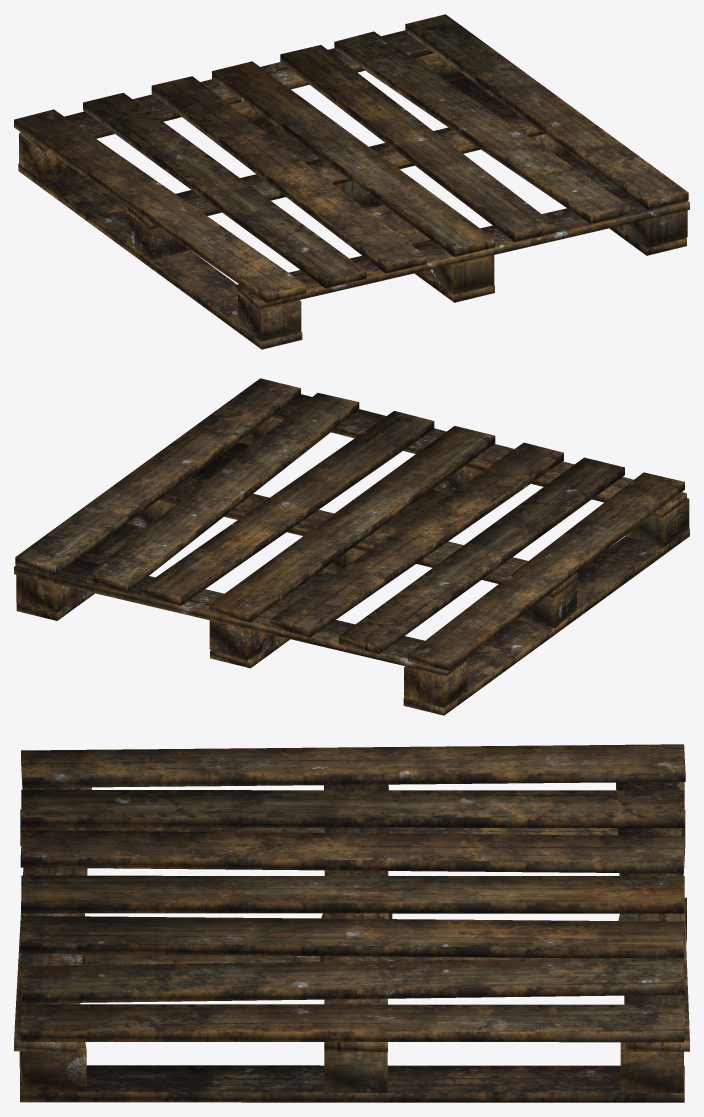
File: Pallet2.fbx
3 views of the same model, one above another, from view 1: azimuth 30°, elevation 25°; view 2: azimuth 150°, elevation 25°; view 3: azimuth 270°, elevation 25° (orthographic). The views are drawn at different scales.
Visible parts, largest first — view 1: Pallet; view 2: Pallet; view 3: Pallet.
Boxes of the visible parts, left/top/right/bottom form: Pallet: left=14, top=14, right=689, bottom=349; Pallet: left=14, top=378, right=689, bottom=715; Pallet: left=14, top=744, right=689, bottom=1102.
Size of the model in its own units: 135 by 15.85 by 134.
Materials: 1 (1 with a texture image).
